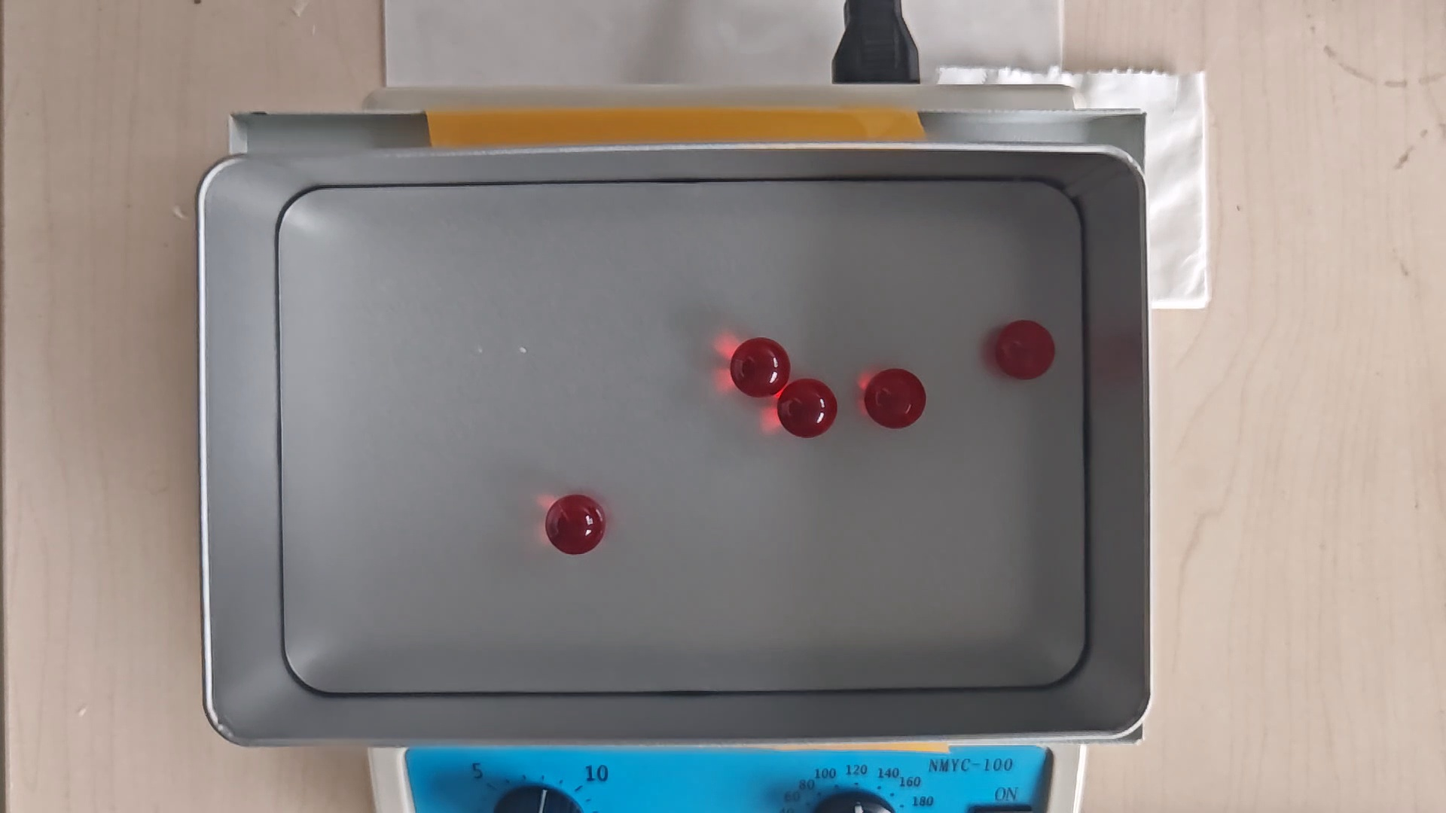ball: (865, 368, 927, 431), (545, 491, 604, 556), (996, 316, 1054, 382), (729, 335, 790, 397), (777, 378, 836, 437)
container: (273, 178, 1087, 699)
